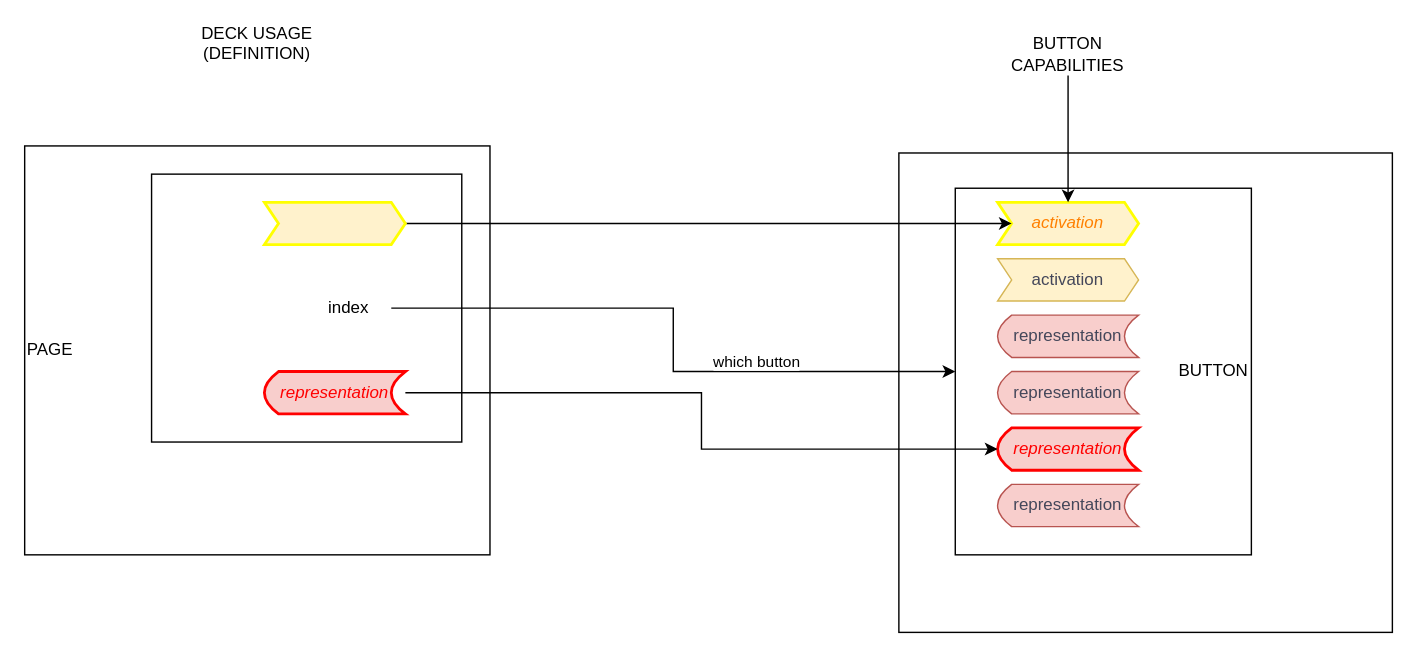
The diagram is 1417 pixels wide and 657 high, and some of its shapes have lost their labels. Each missing label, with the box of its shape:
BUTTON DEFINITION: (150, 173, 462, 442)
DECK: (897, 152, 1392, 632)
type: (262, 200, 406, 245)
